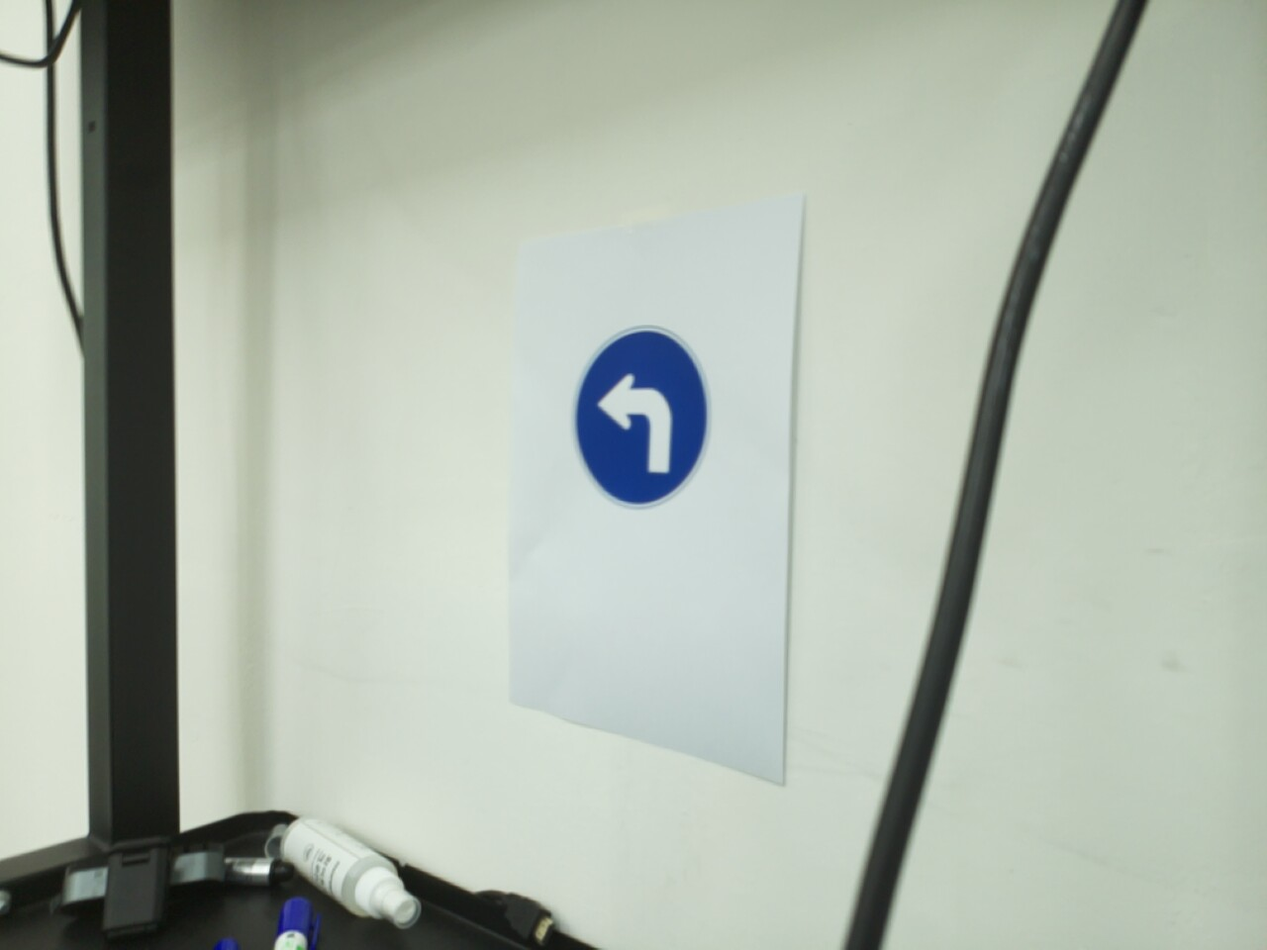left_turn: (570, 324, 713, 511)
